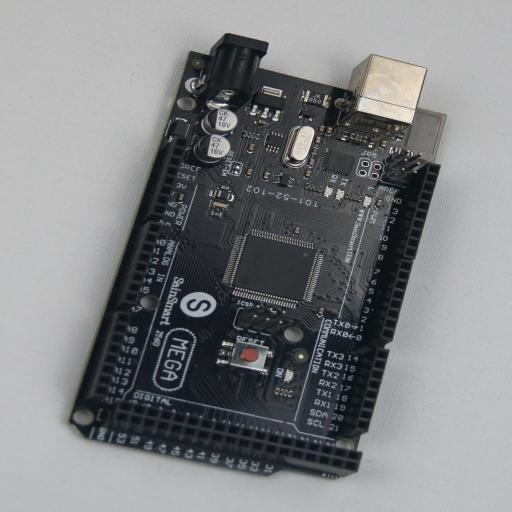Arduino Mega 2560 -Black-: (68, 33, 445, 480)
